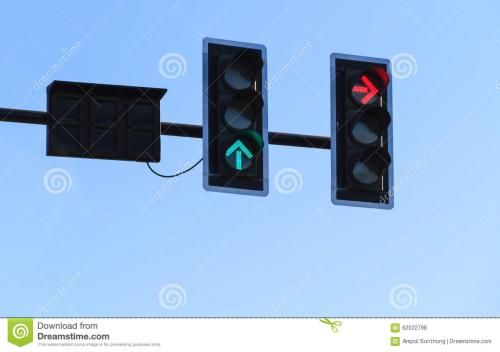green: (200, 36, 273, 199)
red: (329, 49, 397, 212)
